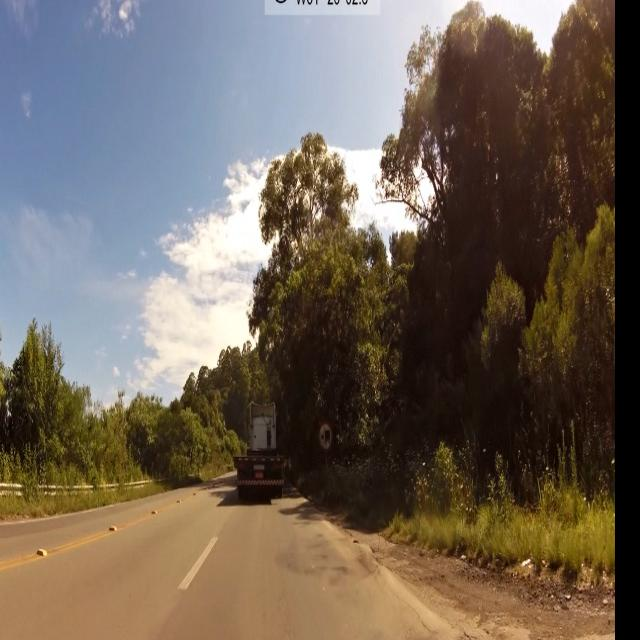R-27: (318, 419, 336, 454)
